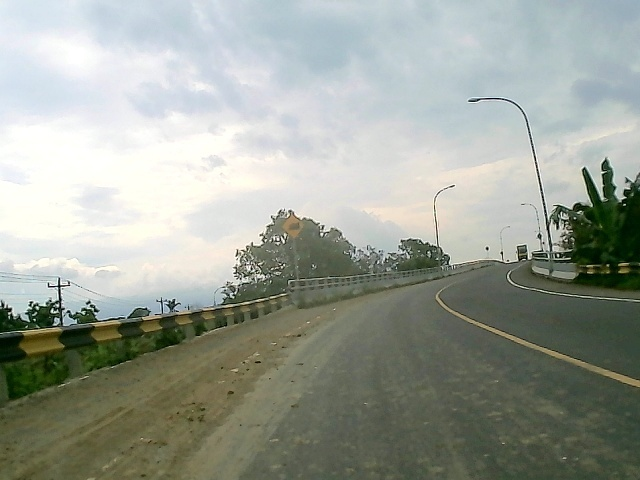Jalanan menanjak: (279, 211, 307, 241)
